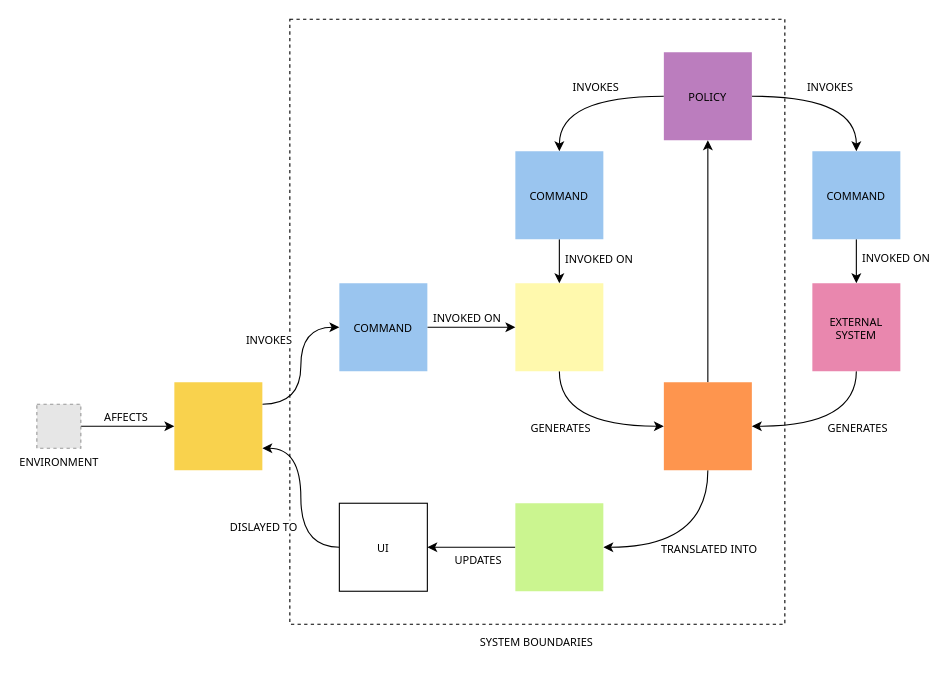
Some shapes in this 948 by 677 pixel diagram are drawn without their labels. Grey dashed boxes stand in for pictures. The centre of each missing label's shape, as x and y in pixels:
AGGREGATE: point (559, 327)
DOMAIN EVENT: point (707, 426)
READ MODEL: point (559, 547)
USER: point (218, 426)
